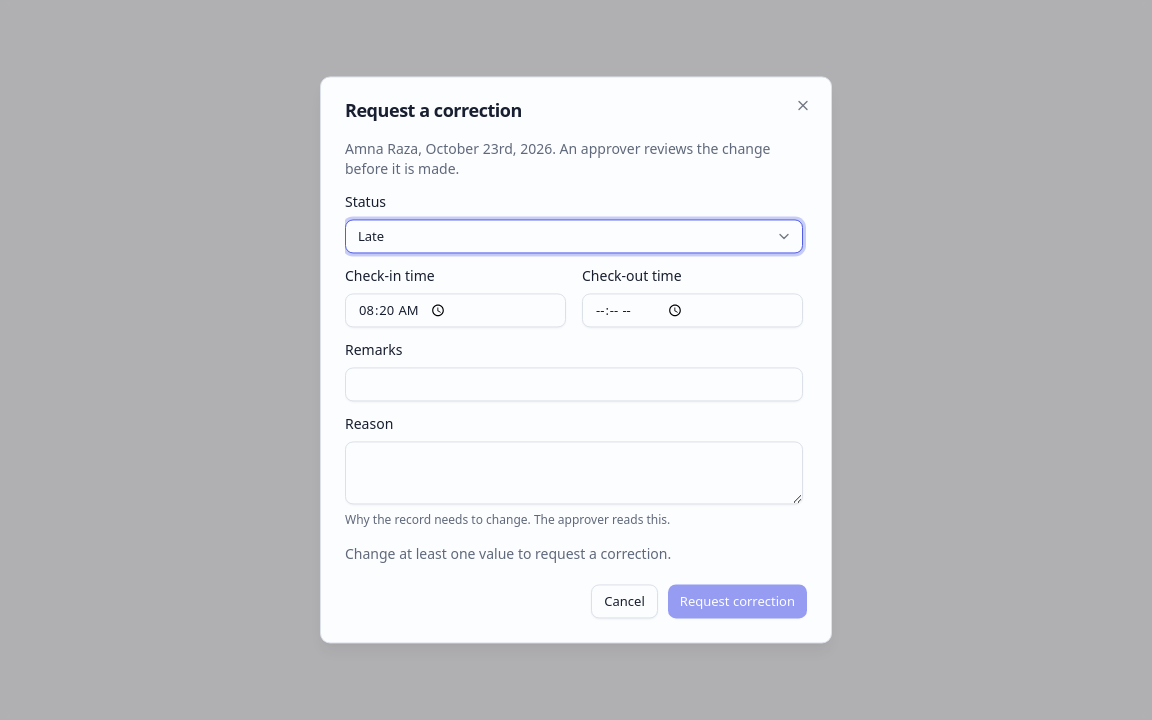
Test: RequestCorrectionDialog › needs a reason
Click the dropdown named "Status": (371,236) [345,219,803,253]
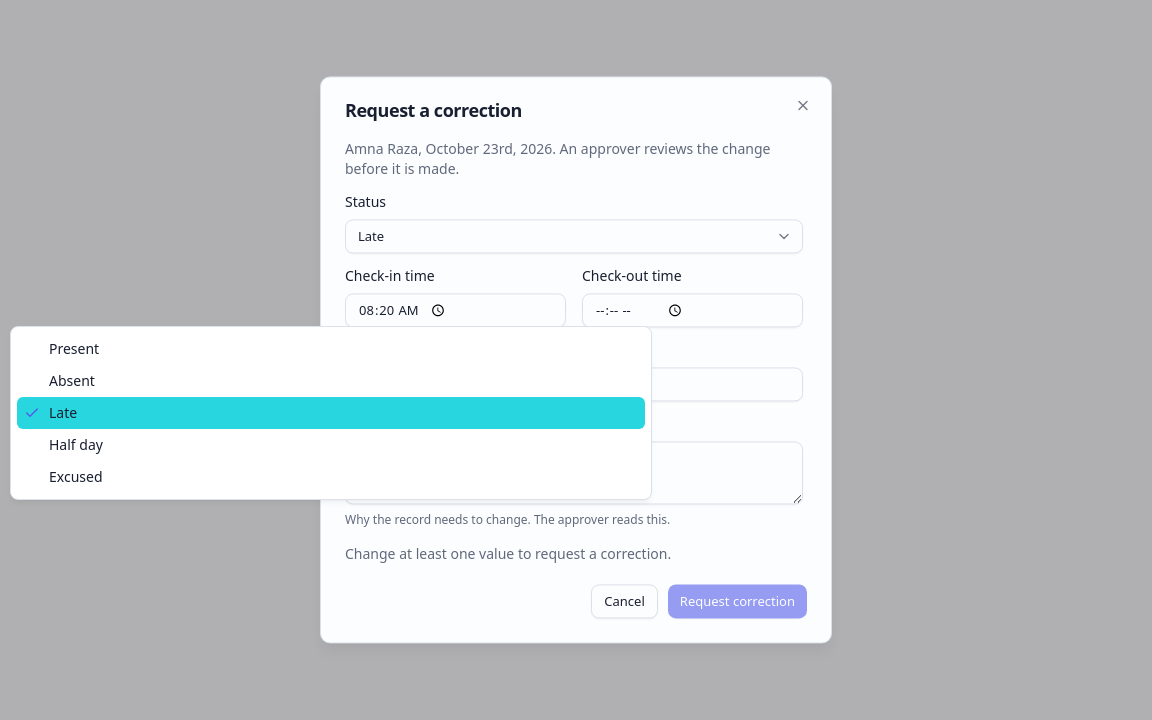
Click the option "Present": (74,348) [49,339,99,358]
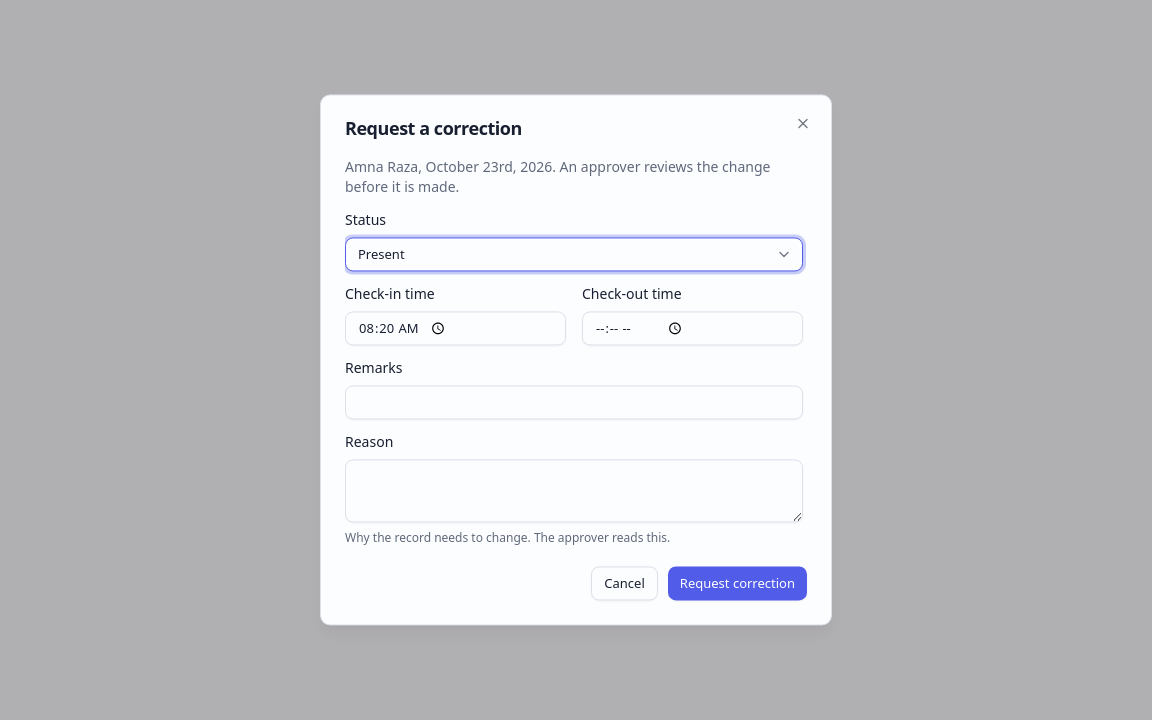
Click the button "Request correction": (737,584) [668,567,807,601]
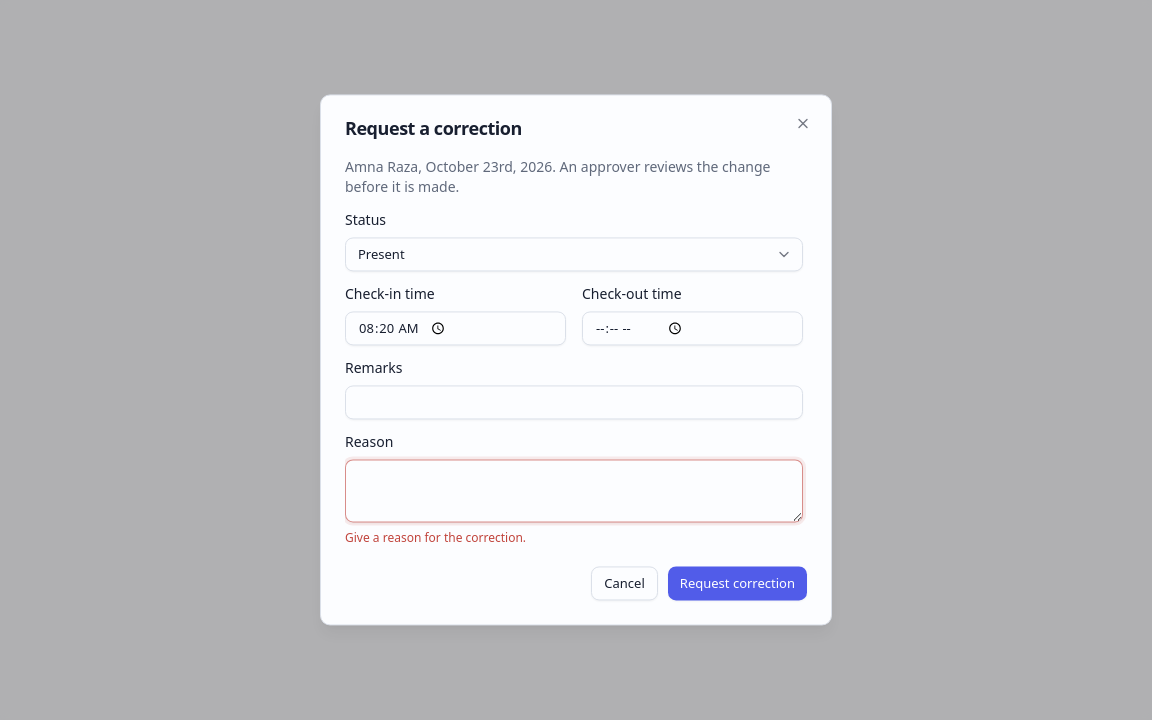
Expected: the text "Give a reason for the correction." is shown, [345,530,526,547]
